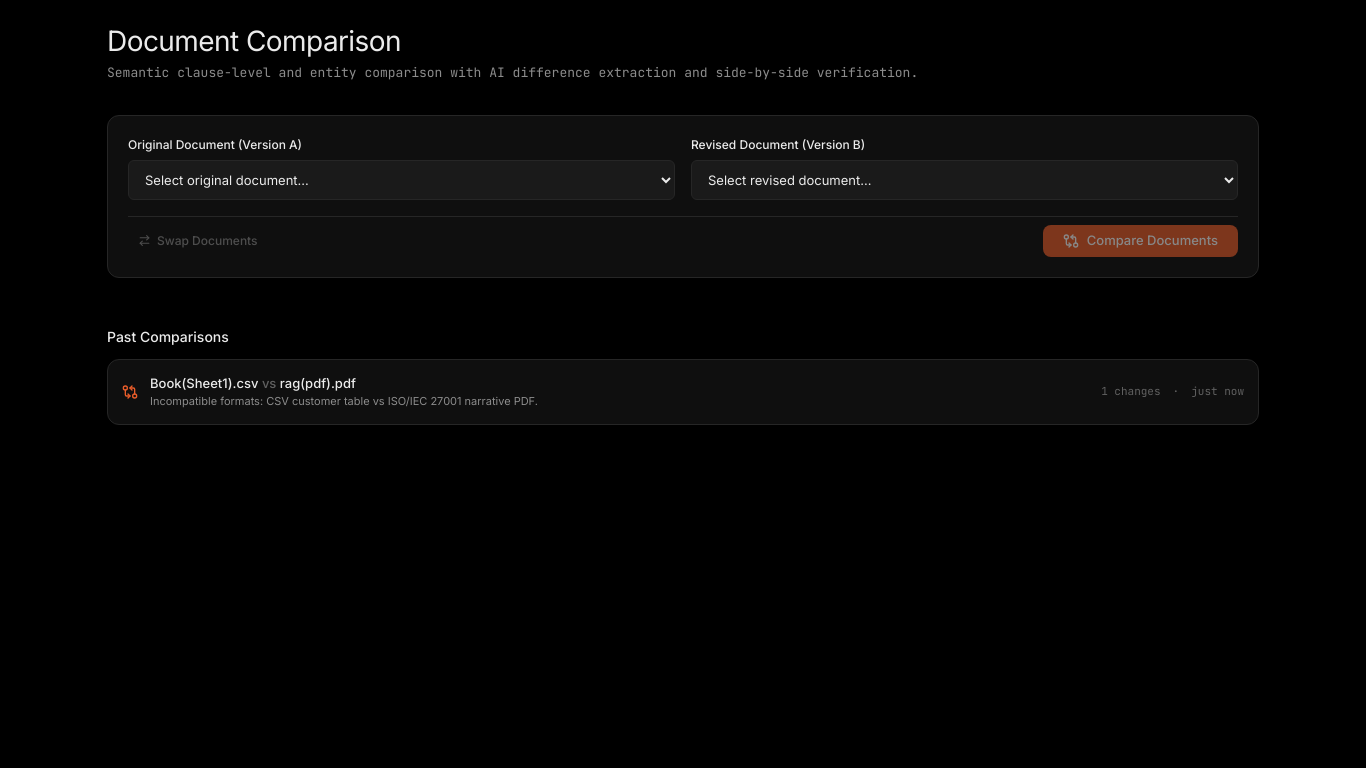
ComparePage Component Regression Tests › immediately clears old results when dropdown selection changes
Select CSV A and PDF B
Select "Book(Sheet1).csv (CSV)" in the dropdown below "Original Document (Version A)": [402, 180] box 128,160 -> 675,200
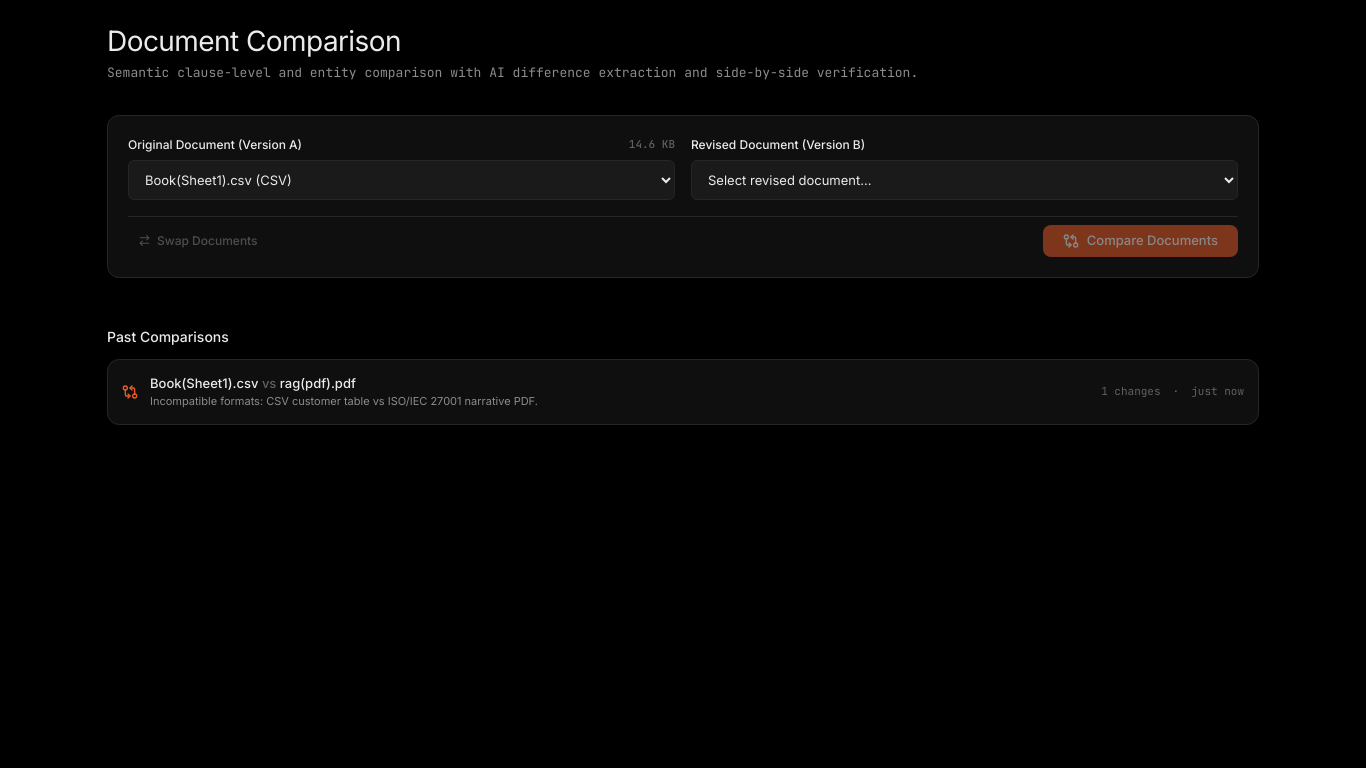
Select "rag(pdf).pdf (PDF)" in the dropdown below "Revised Document (Version B)": [964, 180] box 691,160 -> 1238,200
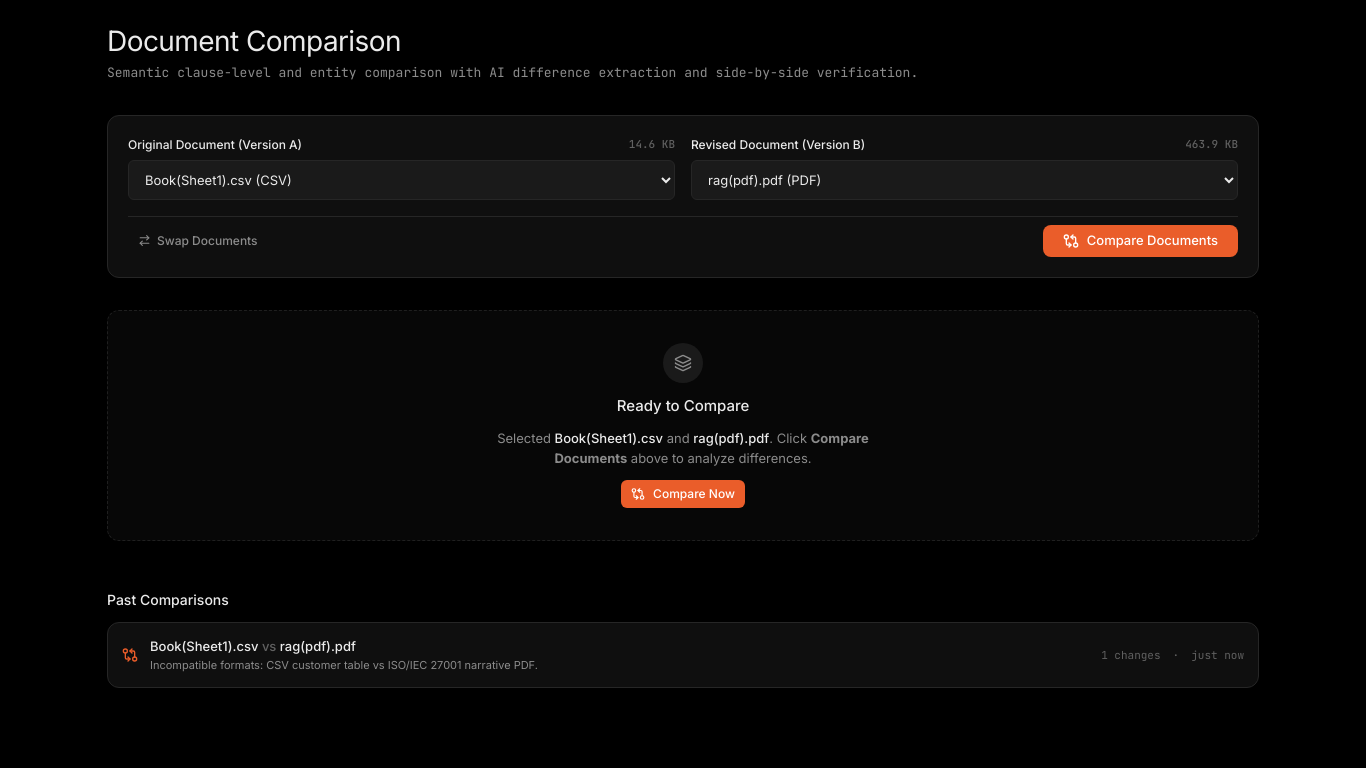
Click the button "Compare Documents": [1140, 240] box 1043,224 -> 1238,256
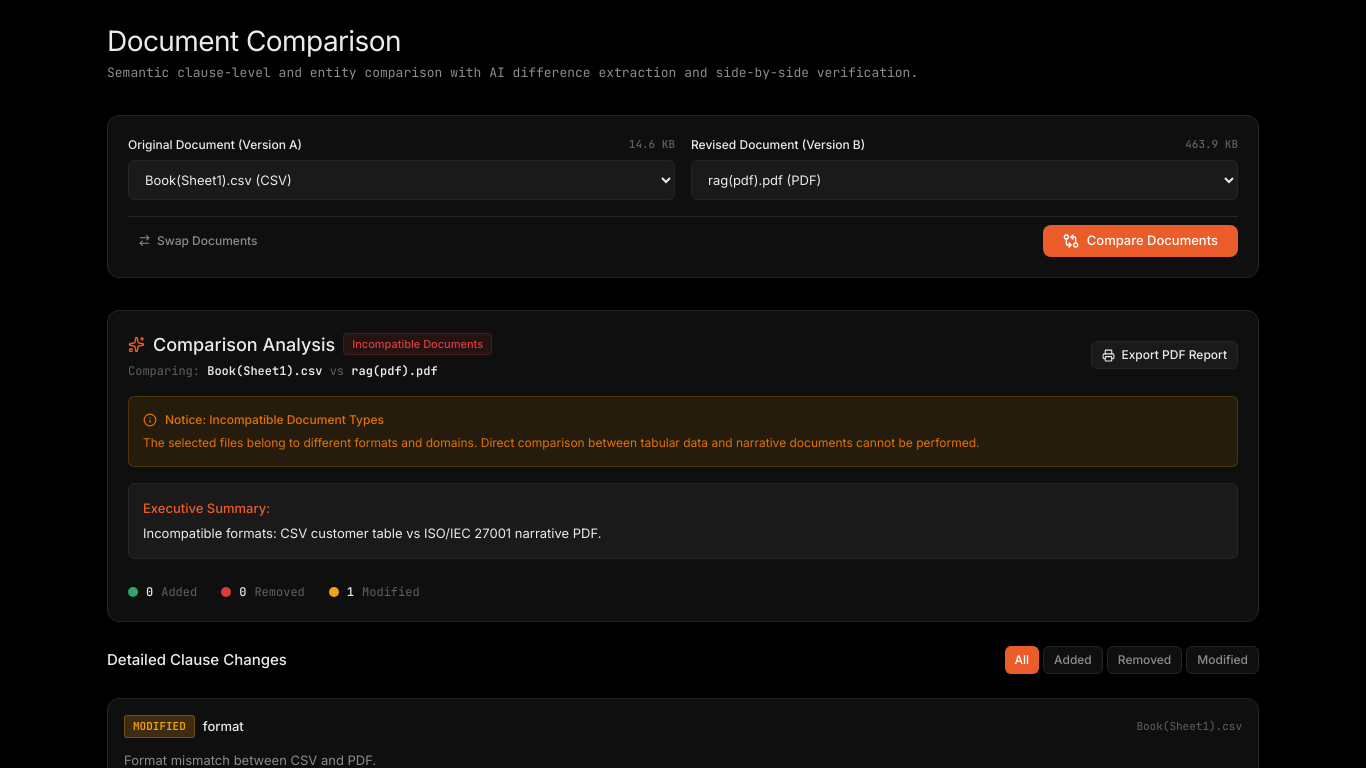
Expected: the heading "Comparison Analysis" is shown, 153,330 -> 335,358
Expected: the text "Executive Summary:" is shown, 143,500 -> 270,516
Expected: the text "Format mismatch between CSV and PDF." is shown, 124,752 -> 376,767
Now change dropdown B to Excel C
Select "Ecommerce 1.xlsx (XLSX)" in the dropdown below "Revised Document (Version B)": [964, 180] box 691,160 -> 1238,200
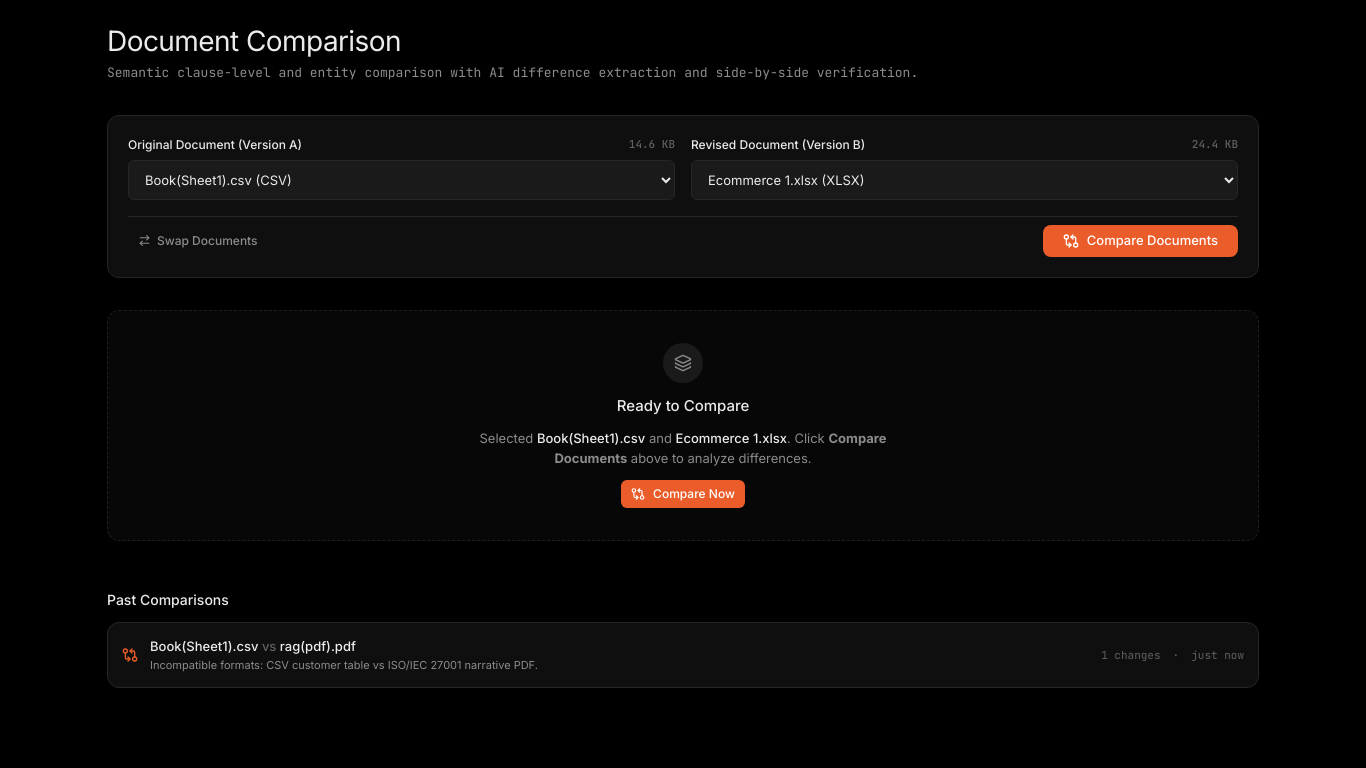
Expected: the heading "Comparison Analysis" is gone
Expected: the text "Executive Summary:" is gone
Expected: the heading "Ready to Compare" is shown, 617,396 -> 749,414
